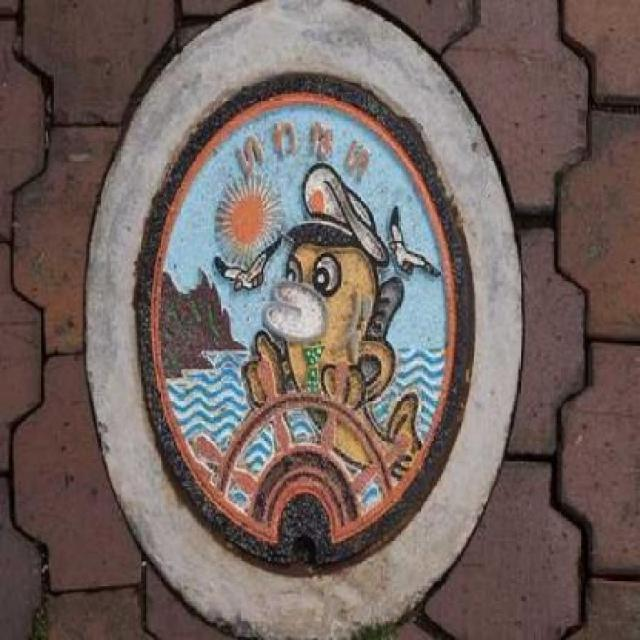Manhole: (79, 20, 590, 640)
